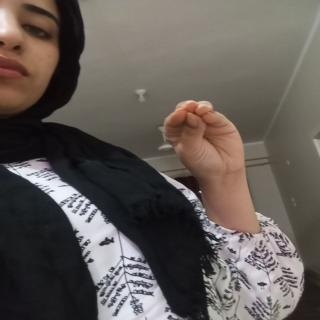HA: (152, 82, 279, 196)
